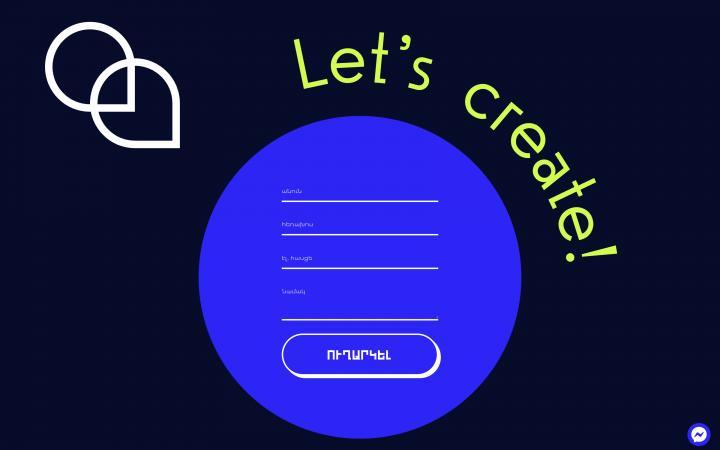button: (282, 335, 441, 379)
